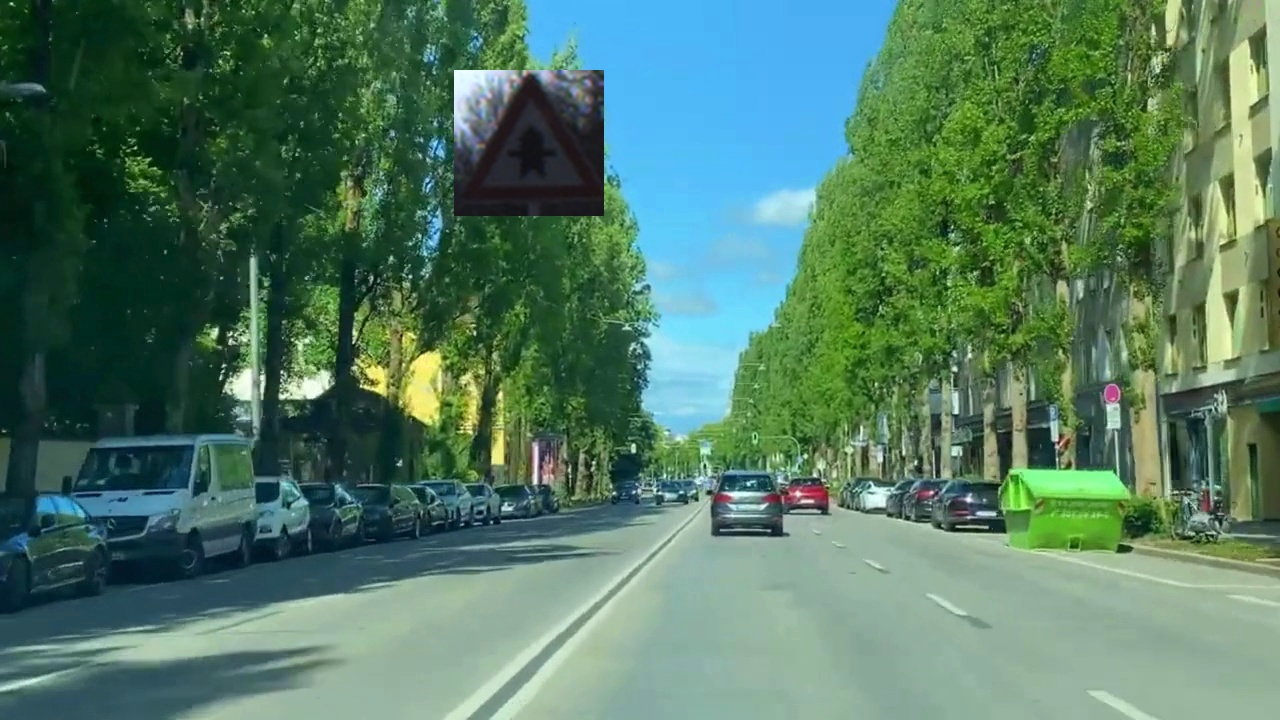Right-of-way: (454, 70, 604, 216)
